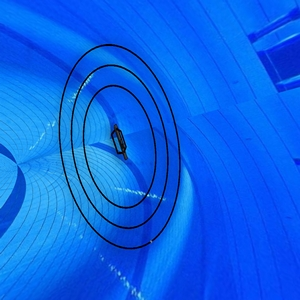circle: (56, 43, 185, 252)
submarine: (104, 121, 135, 163)
